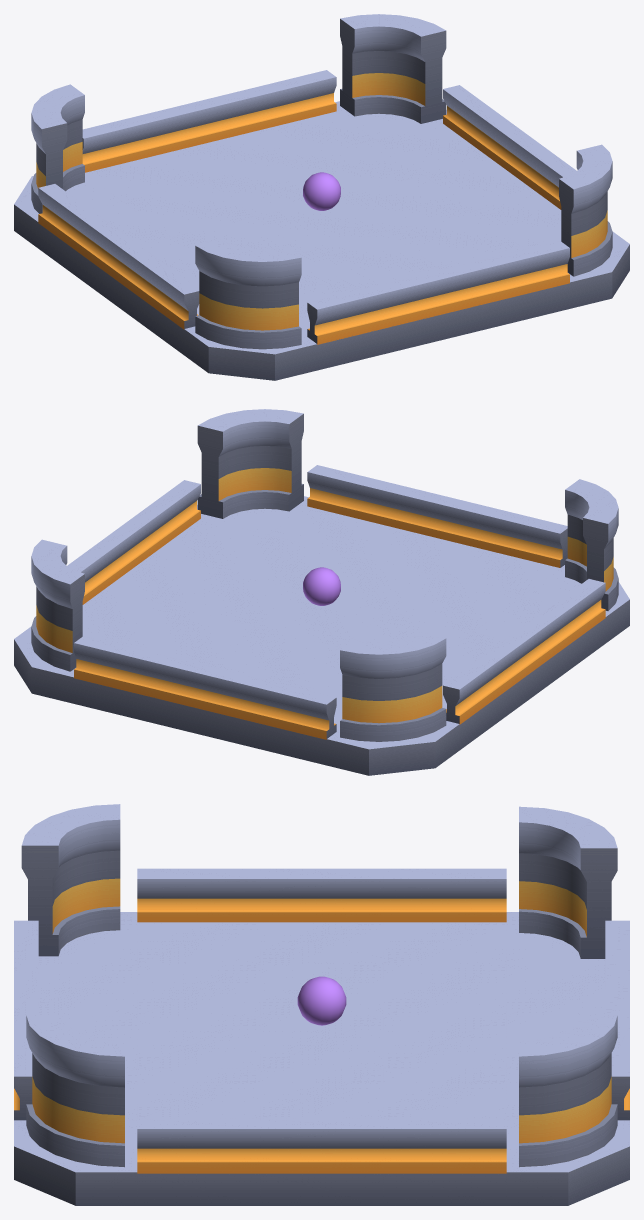
The picture shows the model from 3 angles, top to bottom: view 1: azimuth 30°, elevation 25°; view 2: azimuth 150°, elevation 25°; view 3: azimuth 270°, elevation 25°; orthographic projection. The views are drawn at different scales.
Parts seen in each view (by area): view 1: wall-corner-round-banner.003, wall-corner-round-banner, wall-corner-round-banner.001, wall-corner-round-banner.002, floor-corner.001, balcony-rail-center.002, floor.004, floor.003, floor.006, floor.008, balcony-rail-center.001, balcony-rail-center (+30 smaller); view 2: wall-corner-round-banner.002, wall-corner-round-banner.001, wall-corner-round-banner.003, wall-corner-round-banner, floor-corner.002, balcony-rail-center.005, floor.004, floor.002, floor.007, floor.010, balcony-rail-center.002, balcony-rail-center.004 (+30 smaller); view 3: wall-corner-round-banner.001, wall-corner-round-banner.003, wall-corner-round-banner.002, wall-corner-round-banner, balcony-rail-center.006, balcony-rail-center.007, balcony-rail-center.008, balcony-rail-center.009, balcony-rail-center.010, balcony-rail-center.011, floor.002, floor.003 (+30 smaller).
Part boxes in pixels (bbox=[...]): wall-corner-round-banner.003: bbox=[340, 14, 446, 123]; wall-corner-round-banner: bbox=[195, 239, 301, 349]; wall-corner-round-banner.001: bbox=[559, 144, 612, 276]; wall-corner-round-banner.002: bbox=[31, 84, 84, 213]; floor-corner.001: bbox=[184, 326, 317, 380]; balcony-rail-center.002: bbox=[307, 282, 401, 344]; floor.004: bbox=[340, 175, 472, 231]; floor.003: bbox=[304, 232, 436, 287]; floor.006: bbox=[389, 211, 520, 267]; floor.008: bbox=[123, 181, 254, 237]; balcony-rail-center.001: bbox=[476, 241, 569, 303]; balcony-rail-center: bbox=[392, 261, 485, 324]; wall-corner-round-banner.002: bbox=[340, 632, 446, 741]; wall-corner-round-banner.001: bbox=[197, 409, 303, 518]; wall-corner-round-banner.003: bbox=[31, 539, 84, 671]; wall-corner-round-banner: bbox=[565, 479, 618, 610]; floor-corner.002: bbox=[326, 721, 459, 775]; balcony-rail-center.005: bbox=[242, 677, 336, 739]; floor.004: bbox=[171, 570, 303, 626]; floor.002: bbox=[207, 627, 339, 682]; floor.007: bbox=[123, 606, 254, 662]; floor.010: bbox=[389, 576, 520, 632]; balcony-rail-center.002: bbox=[476, 506, 567, 567]; balcony-rail-center.004: bbox=[74, 636, 167, 698]; wall-corner-round-banner.001: bbox=[26, 1015, 124, 1167]; wall-corner-round-banner.003: bbox=[519, 1015, 617, 1167]; wall-corner-round-banner.002: bbox=[519, 806, 617, 958]; wall-corner-round-banner: bbox=[21, 804, 120, 956]; balcony-rail-center.006: bbox=[260, 1118, 383, 1173]; balcony-rail-center.007: bbox=[383, 1118, 506, 1173]; balcony-rail-center.008: bbox=[137, 1118, 260, 1173]; balcony-rail-center.009: bbox=[260, 868, 383, 922]; balcony-rail-center.010: bbox=[383, 868, 506, 922]; balcony-rail-center.011: bbox=[137, 868, 260, 922]; floor.002: bbox=[383, 1016, 506, 1068]; floor.003: bbox=[137, 1016, 260, 1068].
Size of the model in its own units: 5 by 1.29 by 5.
6 materials, 4 textured.
